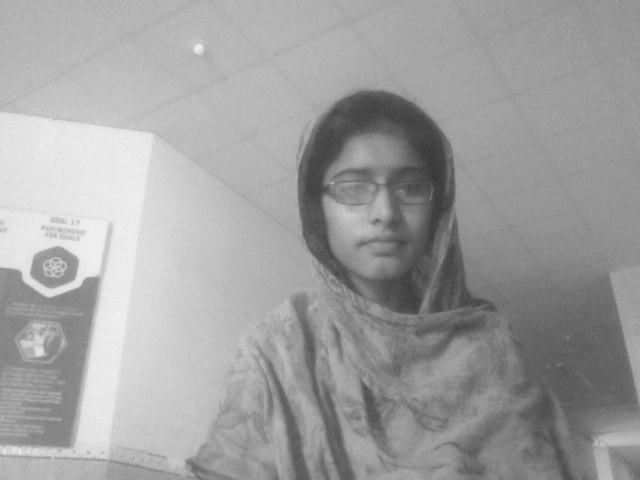Face: (155, 2, 500, 332)
